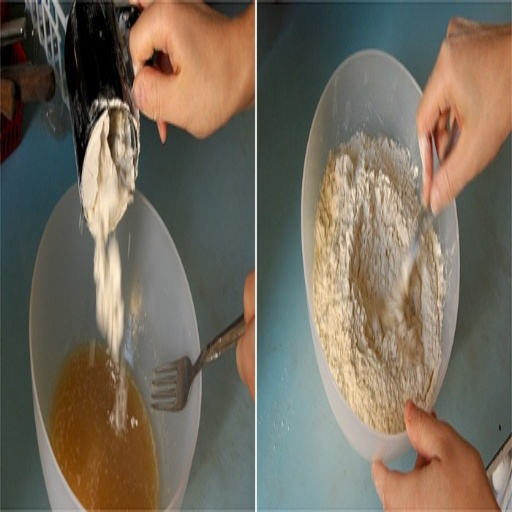hand: (413, 4, 510, 236), (125, 0, 234, 147), (370, 395, 498, 509), (234, 262, 256, 401)
